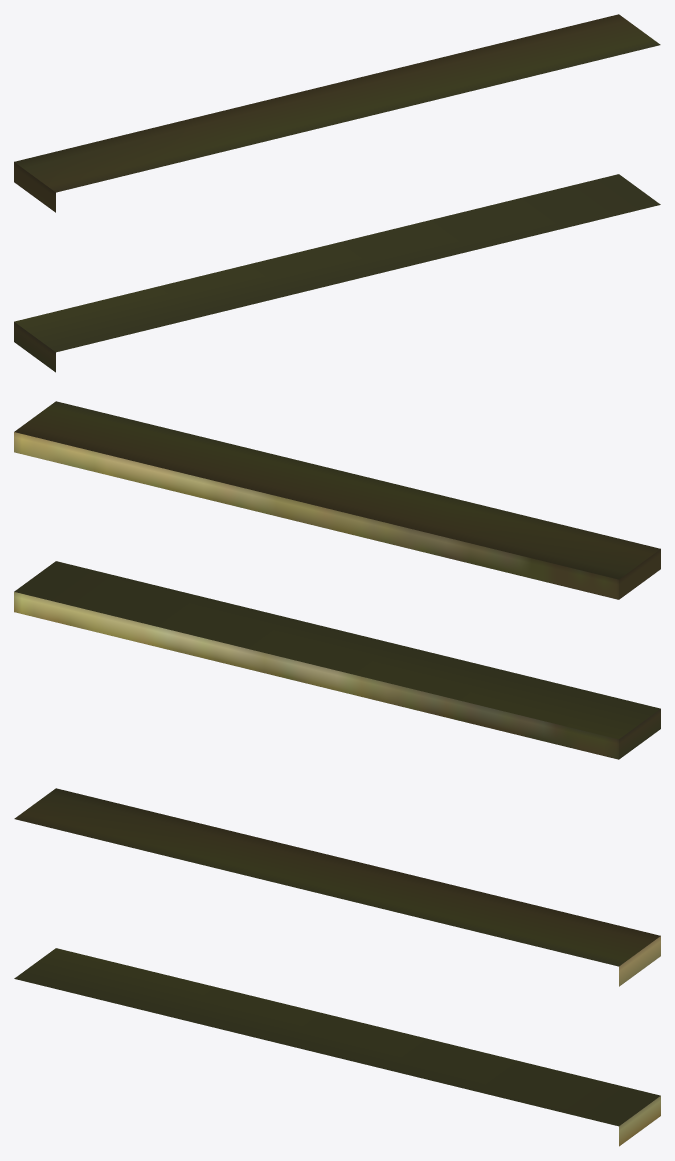
The model's file is Garage02.glb.
3 views of the same model, one above another, from view 1: azimuth 30°, elevation 25°; view 2: azimuth 150°, elevation 25°; view 3: azimuth 330°, elevation 25° (orthographic).
Parts seen in each view (by area): view 1: Garage02; view 2: Garage02; view 3: Garage02.
Boxes of the visible parts, box(x1,y1,x2,y2) form: Garage02: box(14, 14, 660, 372); Garage02: box(14, 401, 660, 759); Garage02: box(14, 788, 660, 1146).
Bounding box in the file's own units: 469 × 133 × 56.45.
Materials: 1 (1 with a texture image).
